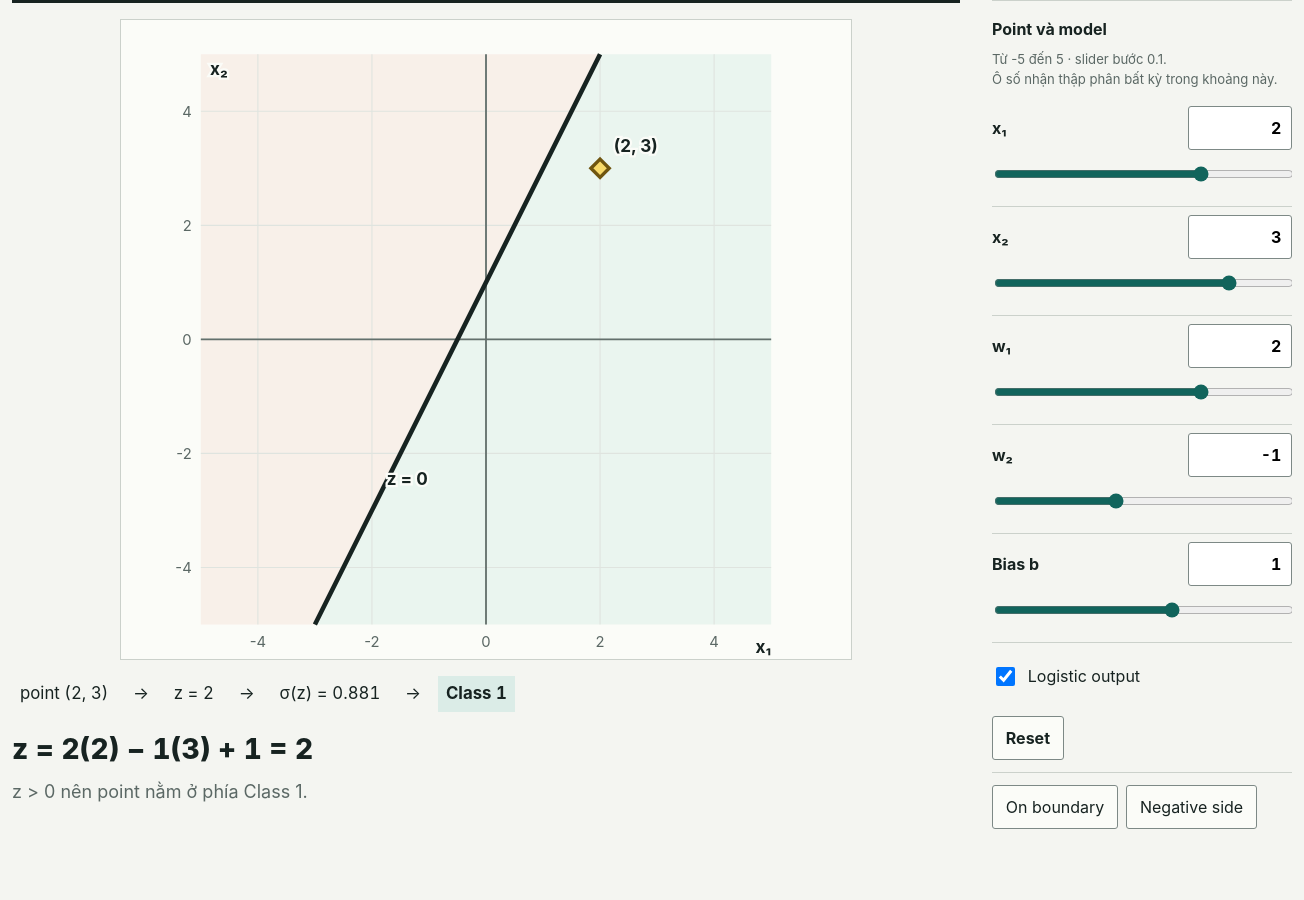
it: geometry learning flows › foregrounds the on-boundary state before the tie convention
Click the button "On boundary" at (1055, 807), box [992, 785, 1118, 829]
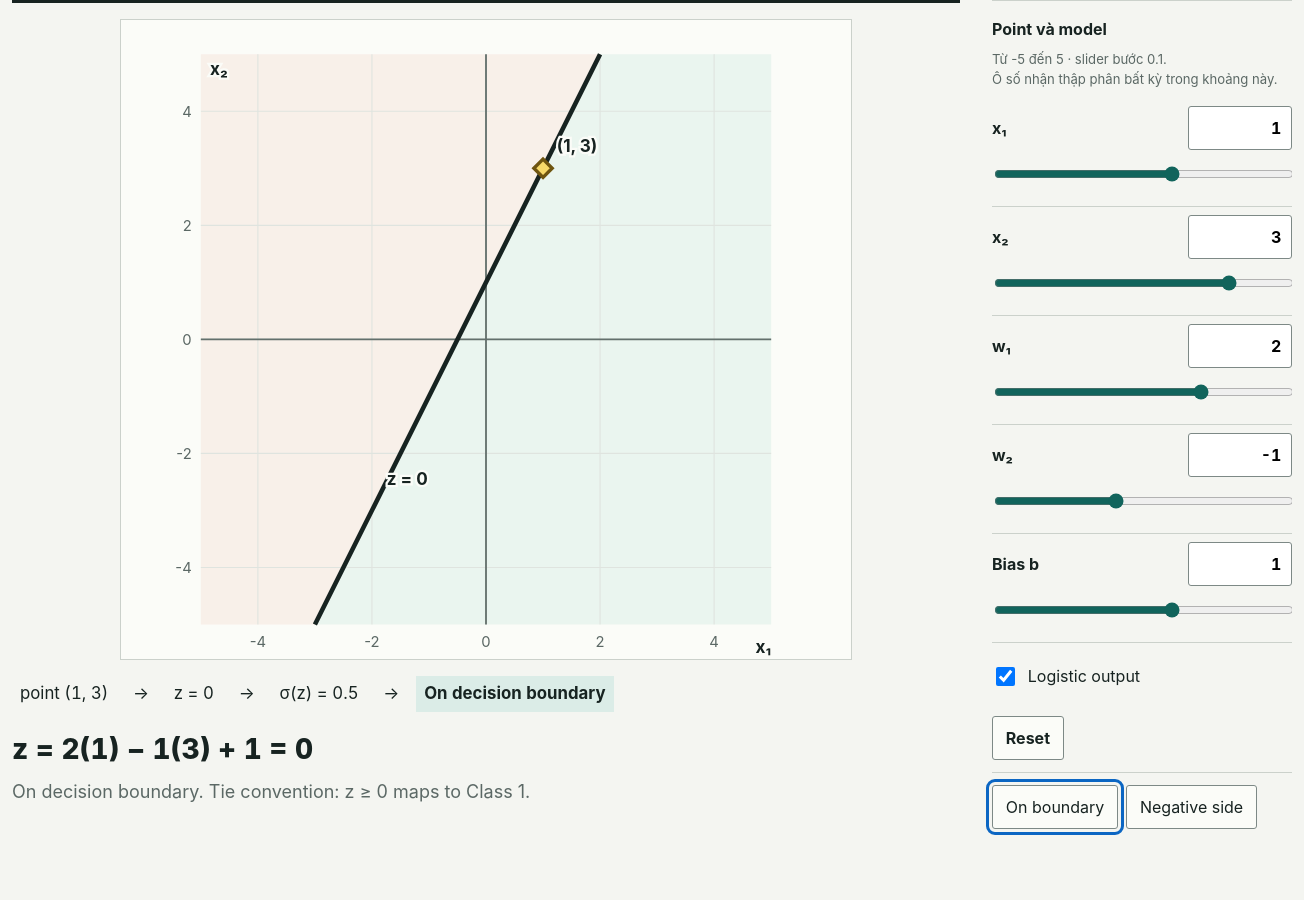
Now the text "On decision boundary" is shown, box [416, 676, 614, 712]
Now the text "On decision boundary. Tie convention: z ≥ 0 maps to Class 1." is shown, box [12, 781, 530, 802]
